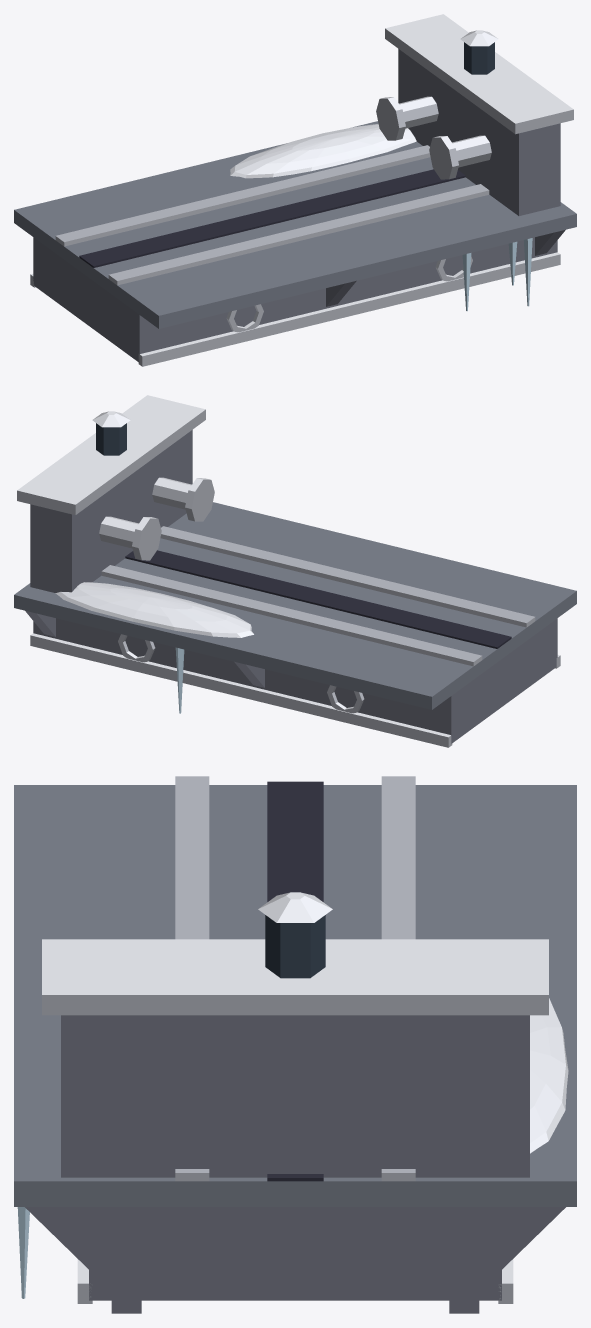
The model's file is PR_Trilho_Ponta.fbx.
3 views of the same model, one above another, from view 1: azimuth 30°, elevation 25°; view 2: azimuth 150°, elevation 25°; view 3: azimuth 270°, elevation 25° (orthographic). The views are drawn at different scales.
Visible parts, largest first — view 1: PR_Trilho_Ponta; view 2: PR_Trilho_Ponta; view 3: PR_Trilho_Ponta.
Boxes of the visible parts, x1,y1,x2,y2 form: PR_Trilho_Ponta: (14,14,576,366); PR_Trilho_Ponta: (14,395,576,747); PR_Trilho_Ponta: (14,776,576,1313).
Bounding box in the file's own units: 5.05 × 2.48 × 3.
